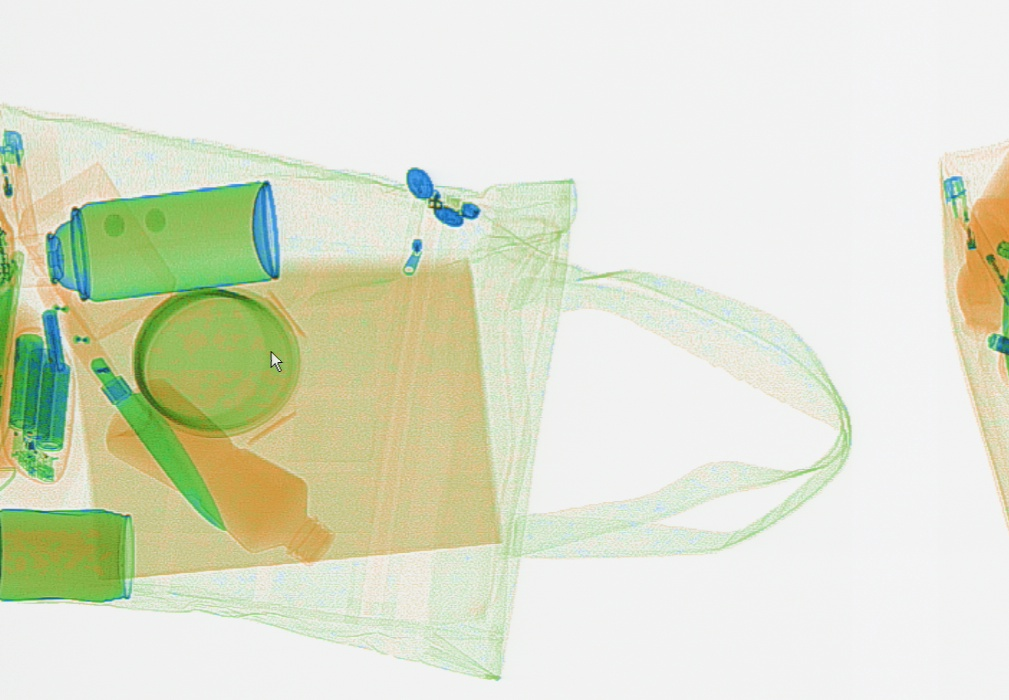knife: (30, 276, 227, 531)
lighter: (954, 194, 1005, 304), (936, 170, 979, 289), (1, 127, 34, 242)
powerbank: (4, 324, 75, 482)
pressure: (7, 173, 279, 300)
